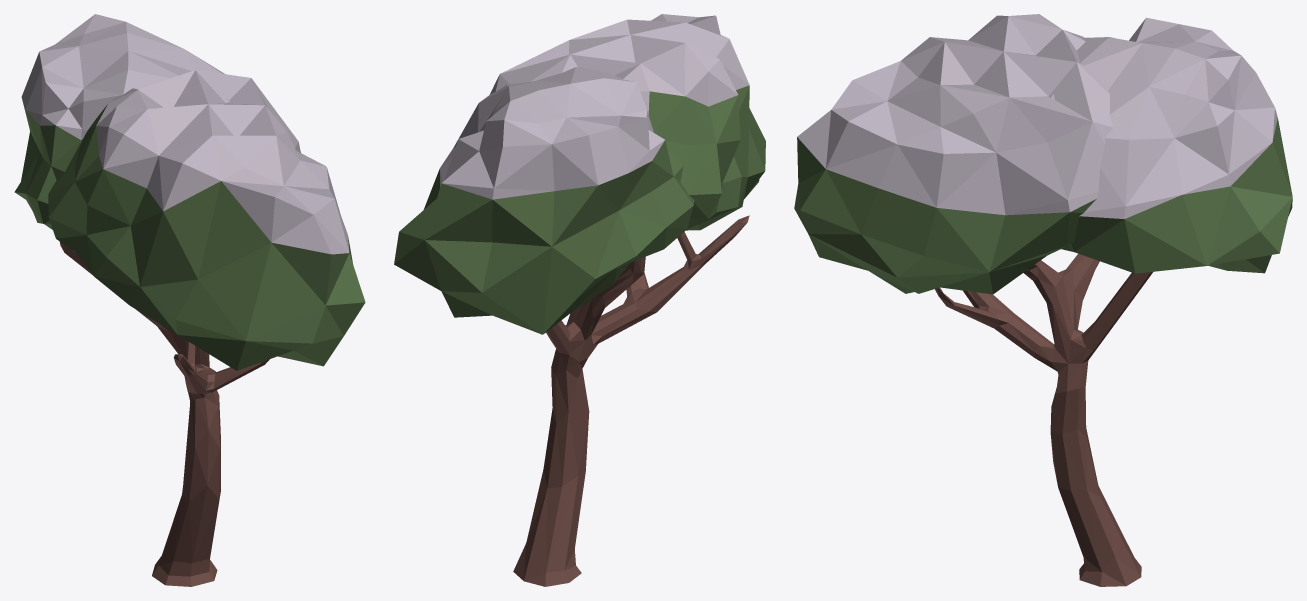
The model's file is CommonTree_Snow_5.lod1.glb.
3 renders of one model, left to right at view 1: azimuth 30°, elevation 25°; view 2: azimuth 150°, elevation 25°; view 3: azimuth 270°, elevation 25°, orthographic.
Visible parts, largest first — view 1: CommonTree_Snow_5; view 2: CommonTree_Snow_5; view 3: CommonTree_Snow_5.
Boxes of the visible parts, left/top/right/bottom form: CommonTree_Snow_5: left=14, top=14, right=365, bottom=586; CommonTree_Snow_5: left=394, top=14, right=765, bottom=586; CommonTree_Snow_5: left=794, top=14, right=1292, bottom=586.
Bounding box in the file's own units: 1.29 × 2.57 × 2.25.
